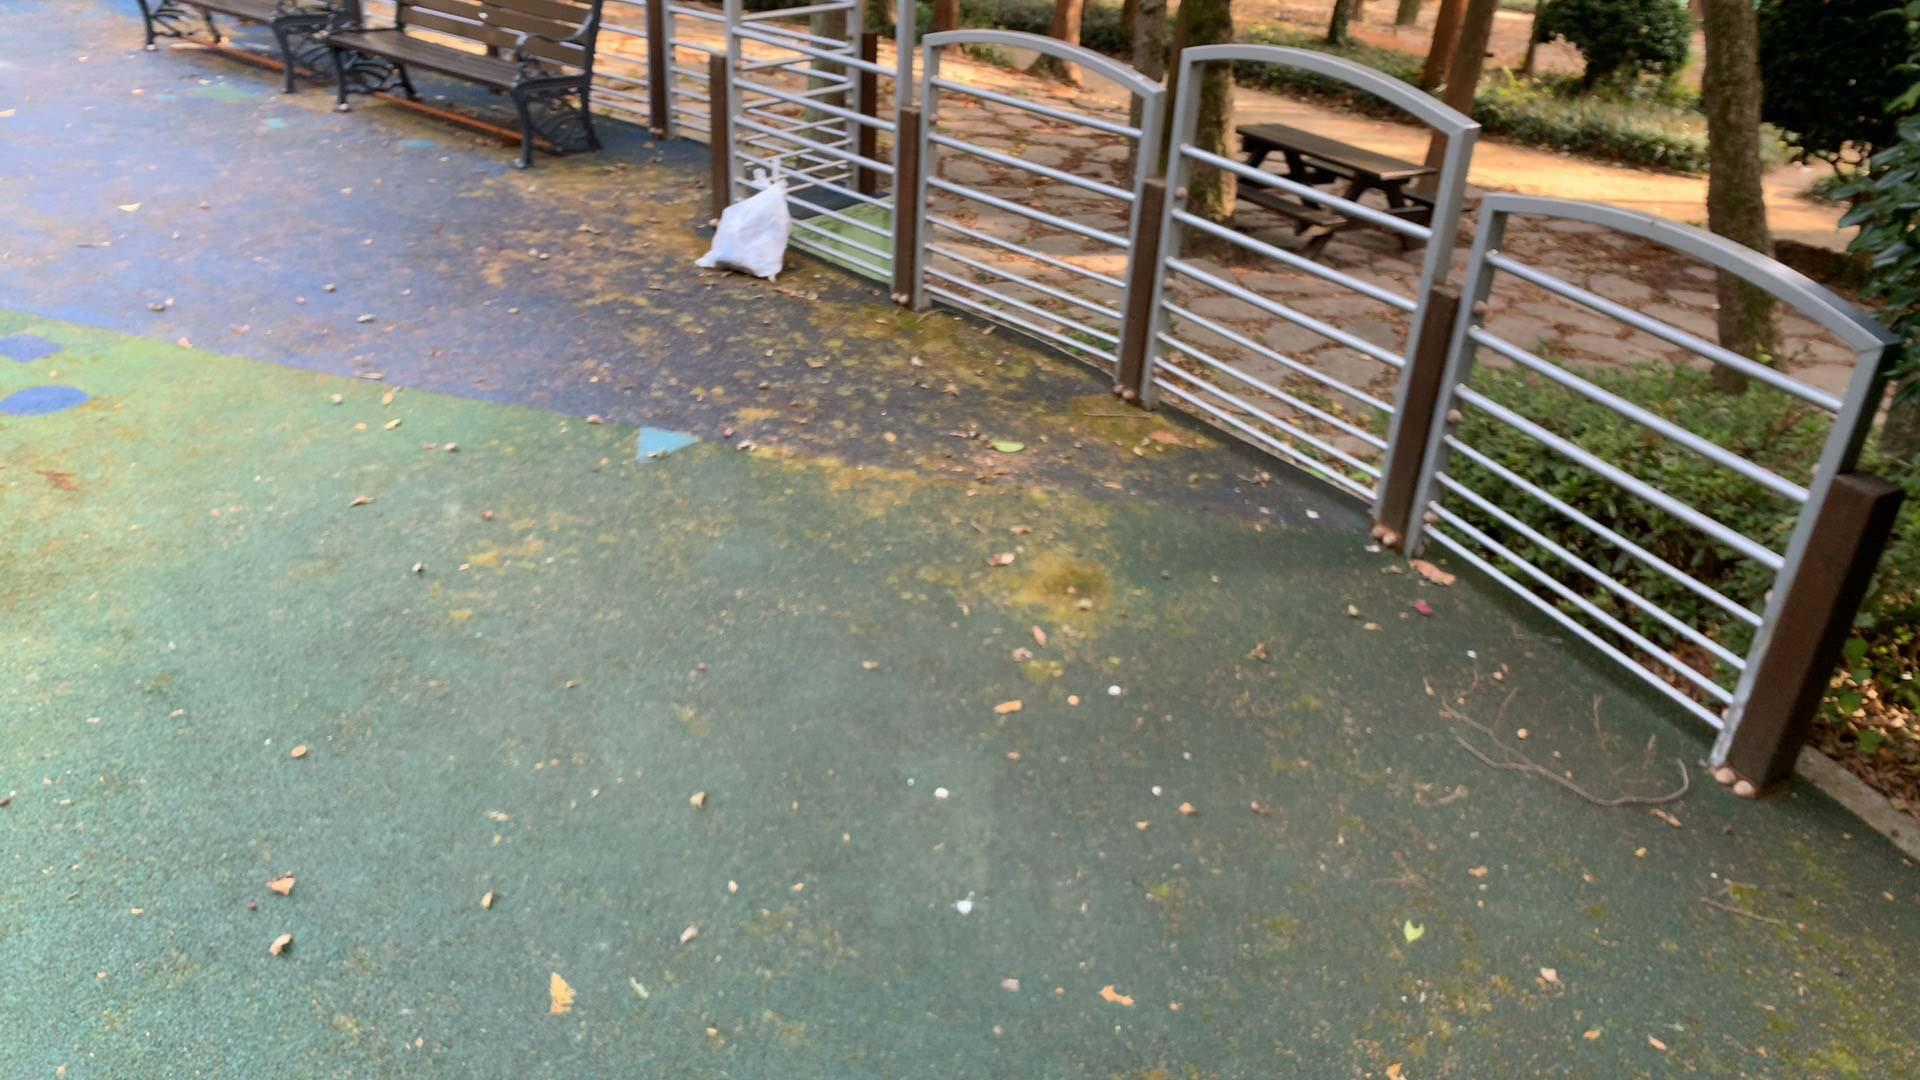white_bag: (688, 153, 793, 284)
